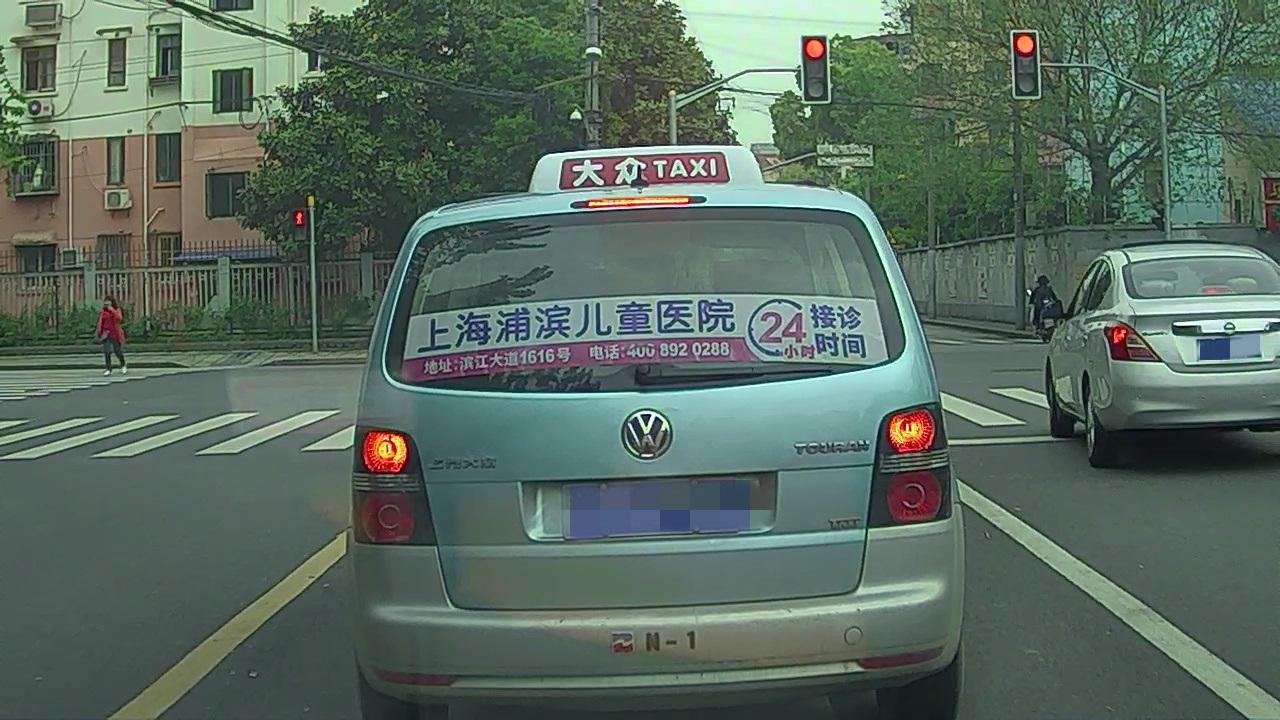traffic_light: (803, 38, 831, 106), (1013, 30, 1033, 95)
